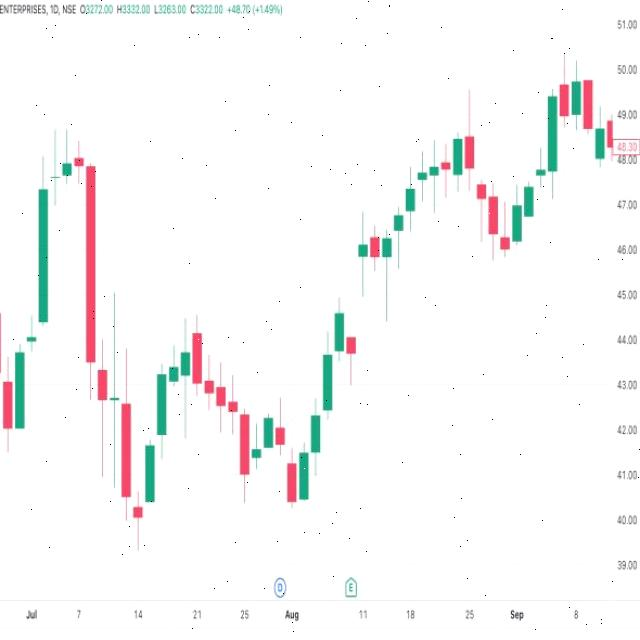GAP UP: (344, 212, 369, 392)
